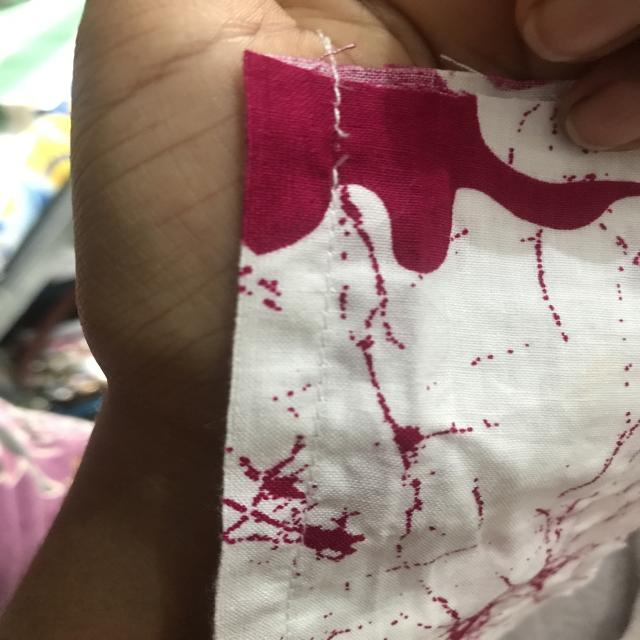broken: (316, 102, 364, 186)
